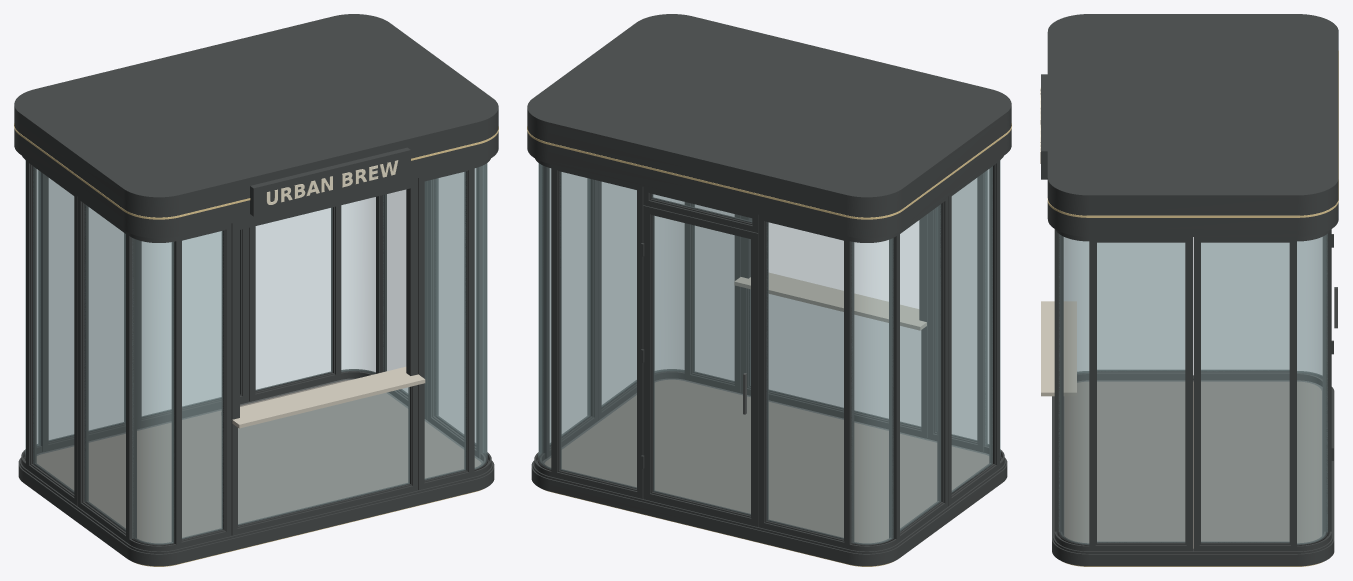
3 views of the same model, side by side, from view 1: azimuth 30°, elevation 25°; view 2: azimuth 150°, elevation 25°; view 3: azimuth 270°, elevation 25° (orthographic).
Parts seen in each view (by area): view 1: Geom3D (×67); view 2: Geom3D (×65); view 3: Geom3D (×33).
Boxes of the visible parts, left/top/right/bottom form: Geom3D (×67): left=14, top=14, right=498, bottom=566; Geom3D (×65): left=527, top=14, right=1011, bottom=566; Geom3D (×33): left=1041, top=14, right=1338, bottom=566.
Size of the model in its own units: 3.1 by 2.98 by 2.16.
